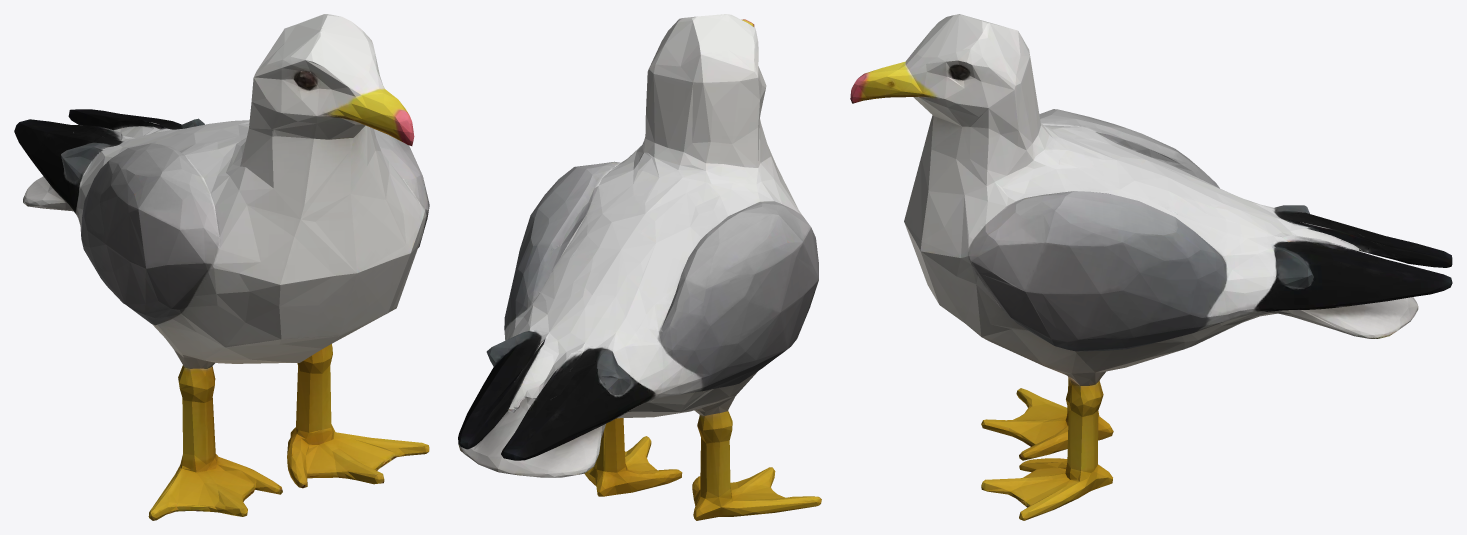
The model's file is seagull.glb.
3 views of the same model, side by side, from view 1: azimuth 30°, elevation 25°; view 2: azimuth 150°, elevation 25°; view 3: azimuth 270°, elevation 25° (orthographic). The views are drawn at different scales.
Parts seen in each view (by area): view 1: world; view 2: world; view 3: world.
Part boxes in pixels (x1,y1,x2,y2): world: [14, 14, 429, 520]; world: [458, 14, 821, 520]; world: [850, 14, 1452, 520].
Size of the model in its own units: 0.492 by 0.8169 by 0.9892.
1 material, 1 textured.
